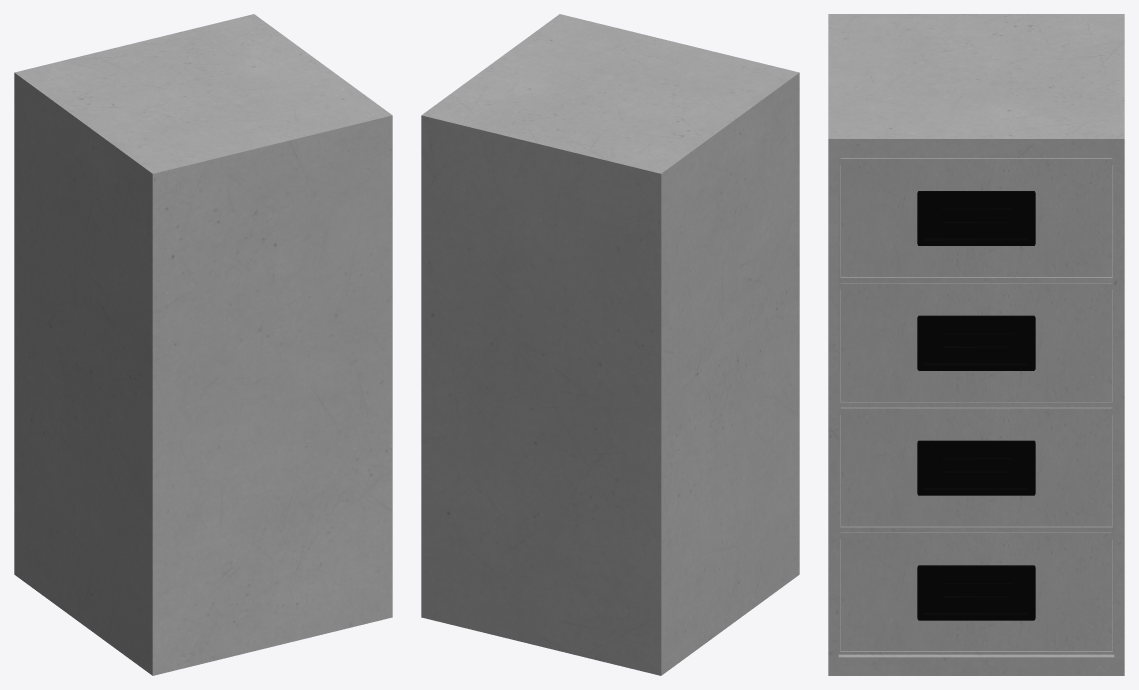
File: white_filing_cabinet.obj
The picture shows the model from 3 angles, left to right: view 1: azimuth 30°, elevation 25°; view 2: azimuth 150°, elevation 25°; view 3: azimuth 270°, elevation 25°; orthographic projection. The views are drawn at different scales.
Visible parts, largest first — view 1: white_filing_cabinet; view 2: white_filing_cabinet; view 3: white_filing_cabinet, drawer_2, drawer_1, drawer_4, drawer_3.
Boxes of the visible parts, x1,y1,x2,y2 form: white_filing_cabinet: [14, 14, 392, 675]; white_filing_cabinet: [421, 14, 799, 675]; white_filing_cabinet: [828, 14, 1124, 675]; drawer_2: [840, 407, 1112, 526]; drawer_1: [840, 532, 1112, 651]; drawer_4: [840, 158, 1112, 276]; drawer_3: [840, 283, 1112, 401].
Size of the model in its own units: 0.5 by 1 by 0.5.
